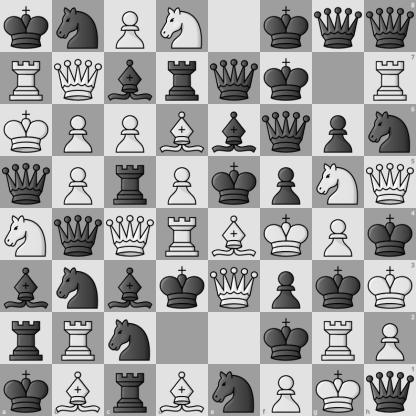B: (156, 364, 209, 416), (52, 364, 104, 416), (157, 105, 208, 156), (209, 209, 260, 260)
K: (312, 364, 364, 416), (364, 260, 416, 312), (1, 105, 52, 156), (261, 209, 312, 260)
N: (1, 209, 52, 260), (157, 1, 208, 52), (313, 157, 364, 208)
P: (260, 364, 312, 416), (364, 312, 416, 364), (53, 105, 104, 156), (53, 157, 104, 208), (105, 1, 156, 52), (105, 105, 156, 156), (157, 157, 208, 208), (313, 209, 364, 260)
Q: (364, 156, 416, 209), (53, 53, 104, 104), (105, 209, 156, 260), (209, 261, 260, 312)
R: (364, 52, 416, 104), (1, 53, 52, 104), (53, 313, 104, 364), (157, 209, 208, 260), (313, 313, 364, 364)
b: (1, 261, 52, 312), (105, 53, 156, 104), (105, 261, 156, 312), (209, 105, 260, 156)
board: (0, 0, 415, 415)
k: (0, 364, 52, 416), (364, 209, 416, 260), (1, 1, 52, 52), (157, 261, 208, 312), (209, 157, 260, 208), (261, 1, 312, 52), (261, 53, 312, 104), (261, 313, 312, 364), (313, 261, 364, 312)
n: (364, 104, 416, 156), (209, 364, 260, 416), (53, 1, 104, 52), (53, 261, 104, 312), (105, 313, 156, 364)
p: (261, 157, 312, 208), (261, 261, 312, 312), (313, 105, 364, 156)
q: (364, 0, 416, 52), (364, 364, 416, 416), (1, 157, 52, 208), (53, 209, 104, 260), (209, 53, 260, 104), (261, 105, 312, 156), (313, 1, 364, 52)
r: (104, 364, 156, 416), (1, 313, 52, 364), (105, 157, 156, 208), (157, 53, 208, 104)
